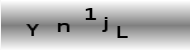1: (83, 7, 97, 20)
L: (116, 25, 129, 38)
Y: (25, 22, 40, 38)
j: (100, 16, 108, 32)
n: (56, 22, 71, 33)
